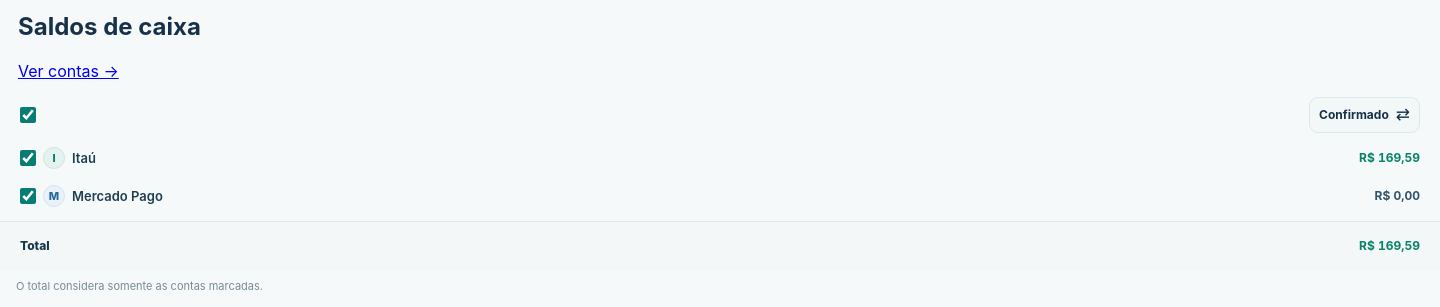
Test case: Card de saldos de caixa › recalcula os dois totais ao selecionar e desmarcar contas, sem alterar as linhas
The image size is (1440, 307).
Click the checkbox labelled "I Itaú" at (28, 158), box [20,150,36,166]
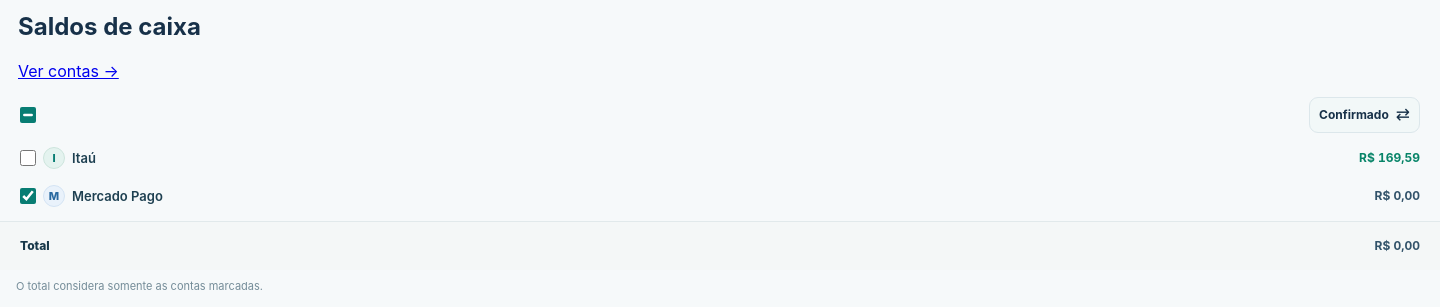
Expected: the number of elements with class "cash-balances-row" is 2, [20,147,1420,169]; [20,185,1420,207]
Result: the footer with class "cash-balances-total" shows "0,00" at [1374,238,1420,253]
Click the checkbox labelled "M Mercado Pago" at (28, 196), box [20,188,36,204]
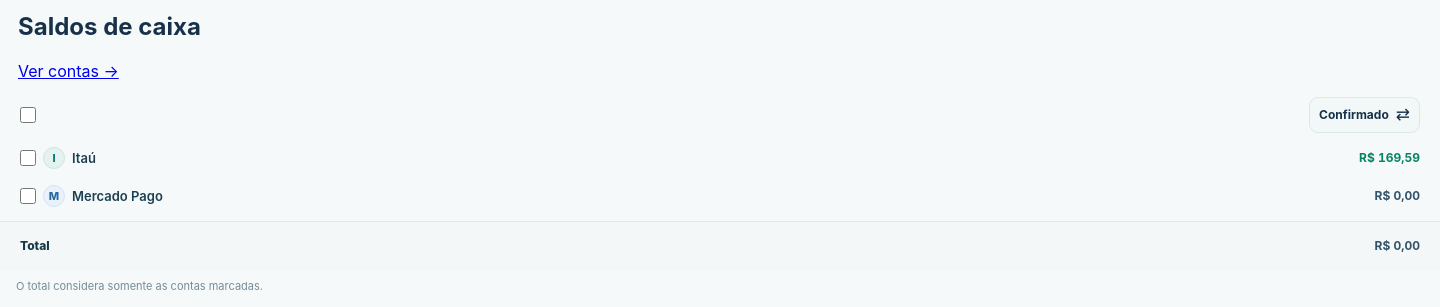
Click the checkbox labelled "I Itaú" at (28, 158), box [20,150,36,166]
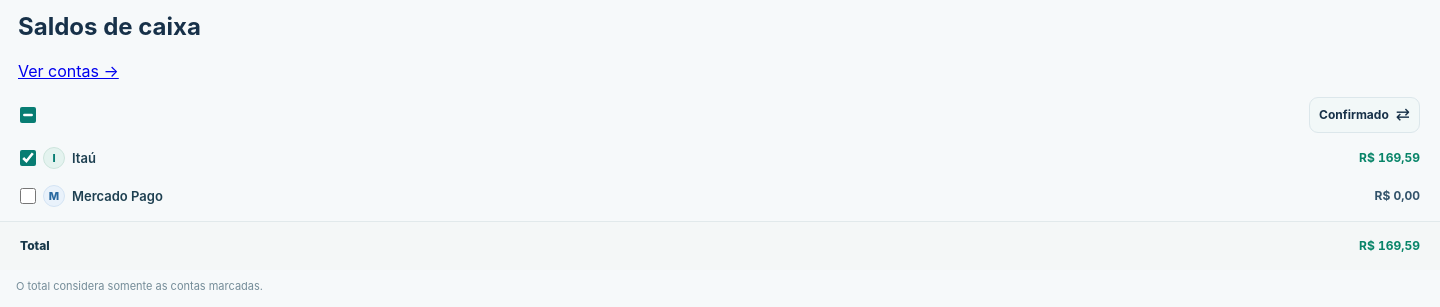
Expected: the element with class "cash-balances-total" does not show "891,08"
Result: the footer with class "cash-balances-total" shows "169,59" at [1359,238,1420,253]
Click the button with class "cash-balances-switch" at (1365, 115), box [1309,97,1420,133]
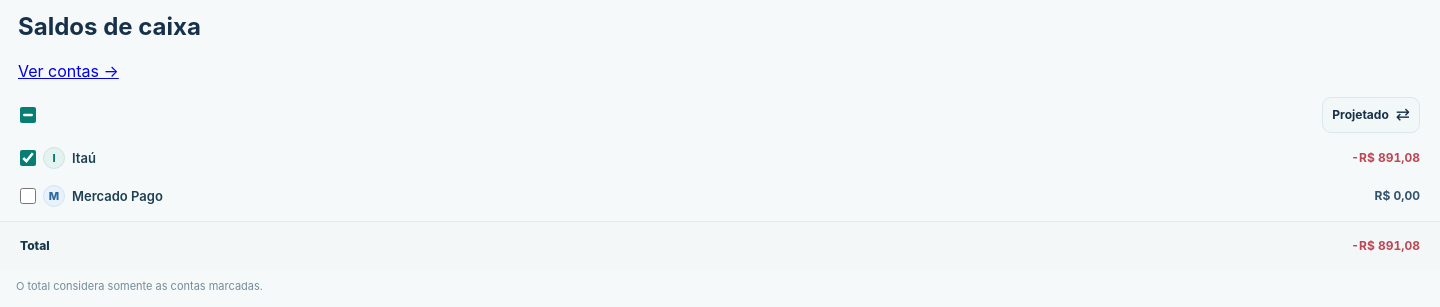
Result: the footer with class "cash-balances-total" shows "891,08" at [1351,238,1420,253]
